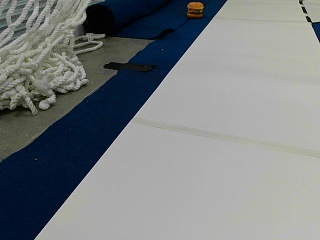burger: (186, 0, 204, 18)
